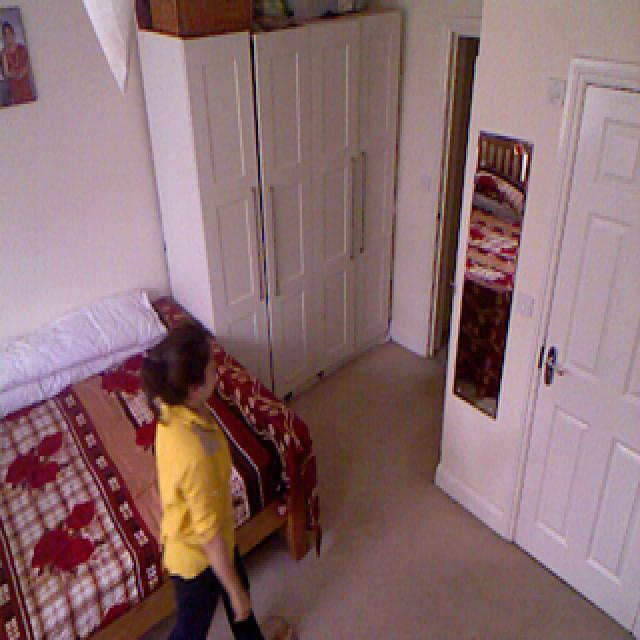standing: (134, 323, 293, 640)
